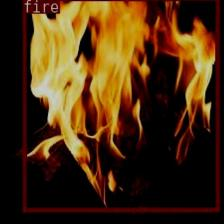fire: (22, 0, 218, 211)
